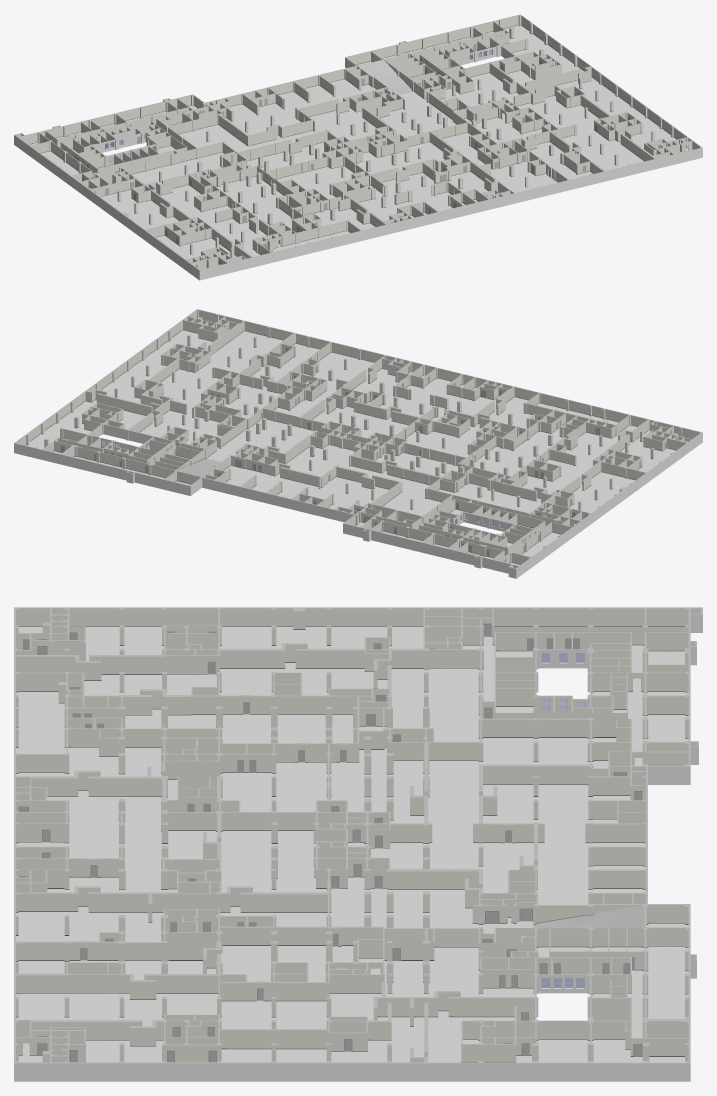
3 views of the same model, one above another, from view 1: azimuth 30°, elevation 25°; view 2: azimuth 150°, elevation 25°; view 3: azimuth 270°, elevation 25° (orthographic). The views are drawn at different scales.
Visible parts, largest first — view 1: node_Fl-B2_01_-1392_25, node_Wl-B2D_01_-1682_170, node_Wl-B2C_01_-1680_169, node_Wl-B2B_01_-1678_168, node_Wl-B2E_01_-1684_171, node_Wl-B2A_01_-1676_167, node_Lo-B2_01_-1670_164; view 2: node_Fl-B2_01_-1392_25, node_Wl-B2D_01_-1682_170, node_Wl-B2C_01_-1680_169, node_Wl-B2B_01_-1678_168, node_Wl-B2E_01_-1684_171, node_Wl-B2A_01_-1676_167, node_Lo-B2_01_-1670_164; view 3: node_Fl-B2_01_-1392_25, node_Wl-B2B_01_-1678_168, node_Wl-B2C_01_-1680_169, node_Wl-B2D_01_-1682_170, node_Wl-B2E_01_-1684_171, node_Wl-B2A_01_-1676_167, node_Lo-B2_01_-1670_164, node_Fl-B2E_01_-1404_31, node_Fl-B2A_01_-1564_111, node_Fl-B2_01_-1562_110, node_Fl-B2C_01_-1400_29, node_Lo-B2_01_-1672_165 (+1 smaller).
Boxes of the visible parts, x1,y1,x2,y2 form: node_Fl-B2_01_-1392_25: (101, 44, 676, 259); node_Wl-B2D_01_-1682_170: (373, 15, 700, 182); node_Wl-B2C_01_-1680_169: (205, 51, 528, 226); node_Wl-B2B_01_-1678_168: (16, 95, 359, 269); node_Wl-B2E_01_-1684_171: (14, 14, 702, 270); node_Wl-B2A_01_-1676_167: (14, 43, 702, 280); node_Lo-B2_01_-1670_164: (43, 35, 665, 264); node_Fl-B2_01_-1392_25: (43, 330, 675, 515); node_Wl-B2D_01_-1682_170: (16, 310, 383, 478); node_Wl-B2C_01_-1680_169: (166, 356, 538, 514); node_Wl-B2B_01_-1678_168: (346, 393, 700, 568); node_Wl-B2E_01_-1684_171: (14, 309, 702, 568); node_Wl-B2A_01_-1676_167: (14, 424, 702, 578); node_Lo-B2_01_-1670_164: (60, 326, 671, 562); node_Fl-B2_01_-1392_25: (16, 626, 688, 1062); node_Wl-B2B_01_-1678_168: (16, 608, 700, 773); node_Wl-B2C_01_-1680_169: (16, 729, 688, 935); node_Wl-B2D_01_-1682_170: (16, 910, 695, 1062); node_Wl-B2E_01_-1684_171: (14, 607, 702, 1063); node_Wl-B2A_01_-1676_167: (14, 614, 702, 1081); node_Lo-B2_01_-1670_164: (18, 623, 642, 1062); node_Fl-B2E_01_-1404_31: (646, 946, 688, 1018); node_Fl-B2A_01_-1564_111: (481, 636, 644, 765); node_Fl-B2_01_-1562_110: (591, 1039, 684, 1062); node_Fl-B2C_01_-1400_29: (646, 714, 688, 741); node_Lo-B2_01_-1672_165: (542, 653, 585, 987).
Bounding box in the file's own units: 159 × 3 × 102.
9 materials, 3 textured.
